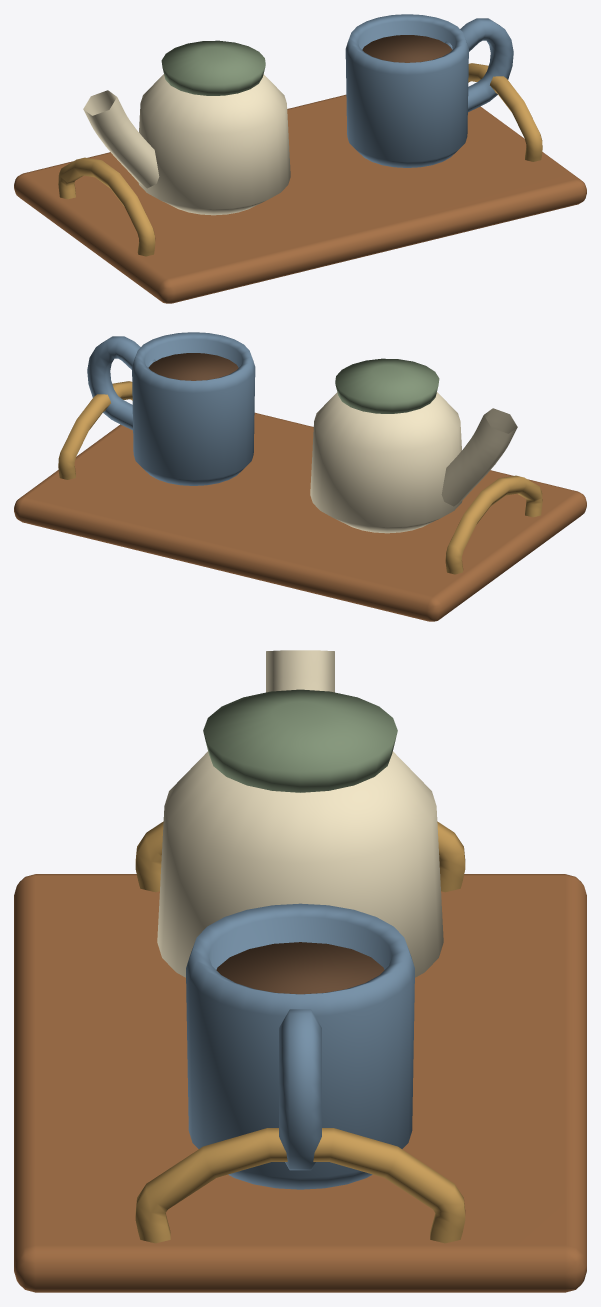
Rendered from tea_service.glb.
The picture shows the model from 3 angles, top to bottom: view 1: azimuth 30°, elevation 25°; view 2: azimuth 150°, elevation 25°; view 3: azimuth 270°, elevation 25°; orthographic projection. The views are drawn at different scales.
Parts seen in each view (by area): view 1: House07_tea_service; view 2: House07_tea_service; view 3: House07_tea_service.
Part boxes in pixels (bbox=[...]): House07_tea_service: bbox=[14, 14, 586, 303]; House07_tea_service: bbox=[14, 332, 586, 621]; House07_tea_service: bbox=[14, 650, 586, 1292].
Size of the model in its own units: 0.64 by 0.2415 by 0.4.
